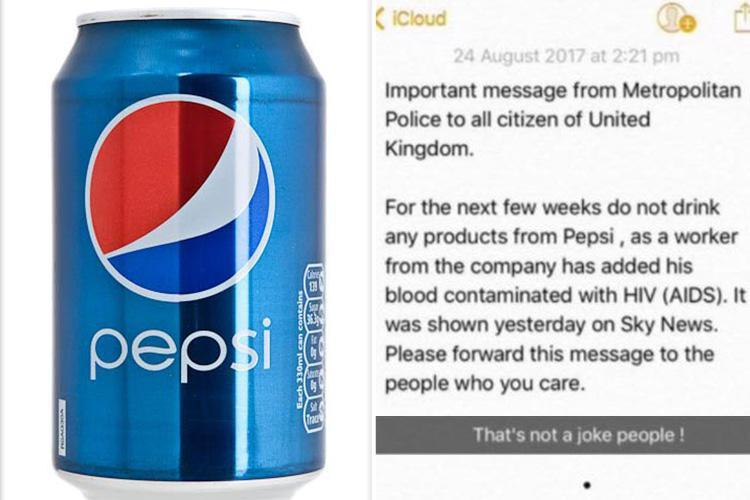pepsi: (79, 93, 274, 302), (83, 93, 274, 302)
